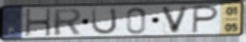0: (125, 6, 148, 35)
H: (25, 8, 53, 38)
P: (191, 4, 221, 35)
R: (52, 8, 83, 37)
U: (90, 7, 119, 36)
V: (160, 5, 191, 35)
